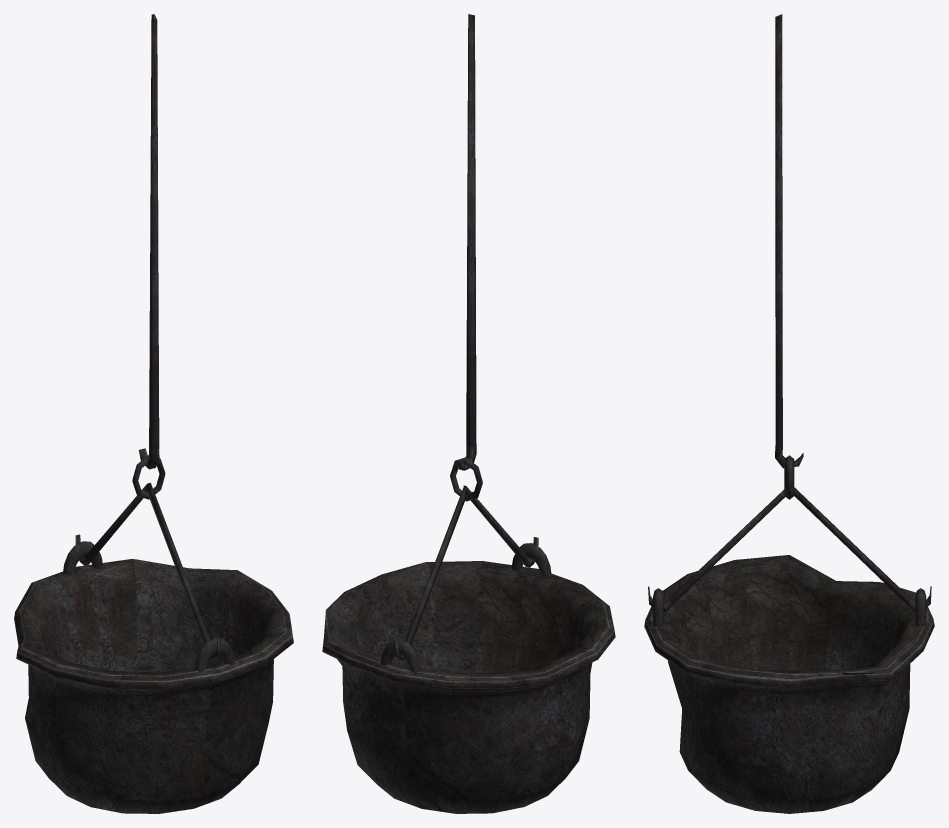
File: tavern_cooker2.obj
3 views of the same model, side by side, from view 1: azimuth 30°, elevation 25°; view 2: azimuth 150°, elevation 25°; view 3: azimuth 270°, elevation 25° (orthographic).
Parts seen in each view (by area): view 1: Default_Layer; view 2: Default_Layer; view 3: Default_Layer.
Boxes of the visible parts, x1,y1,x2,y2 form: Default_Layer: (14,14,293,813); Default_Layer: (322,14,615,813); Default_Layer: (644,14,934,813).
Bounding box in the file's own units: 3.96 × 11.34 × 3.9.
1 material, 1 textured.
